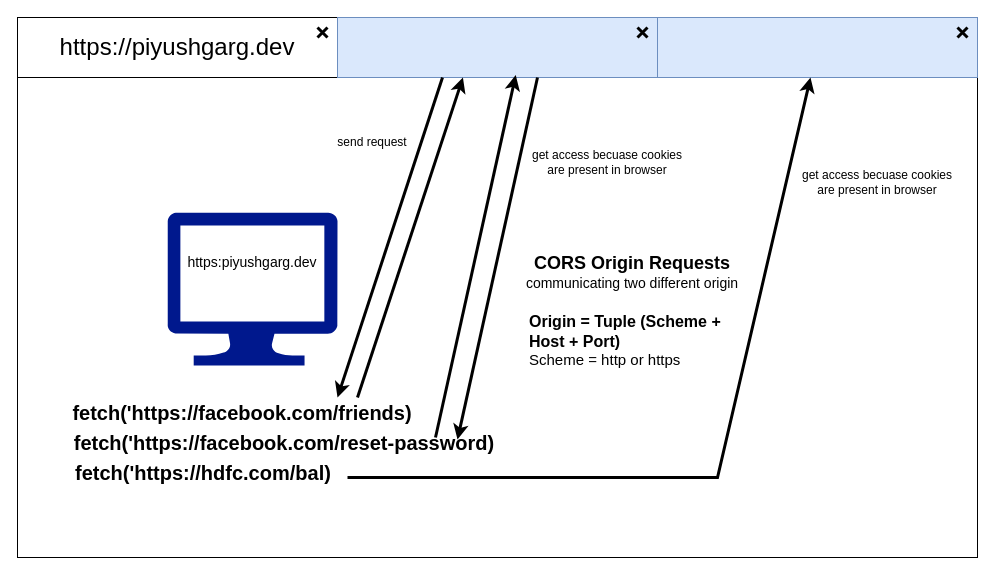
Image size: 995x575. Some labels were removed from this diagram. Here are the shapes that lost their labels. From the top down, the box of each, then its label:
(336, 16, 658, 78): https://facebook.com (loggedin)
(656, 16, 978, 78): https//:hdfc.com (loggedin)
